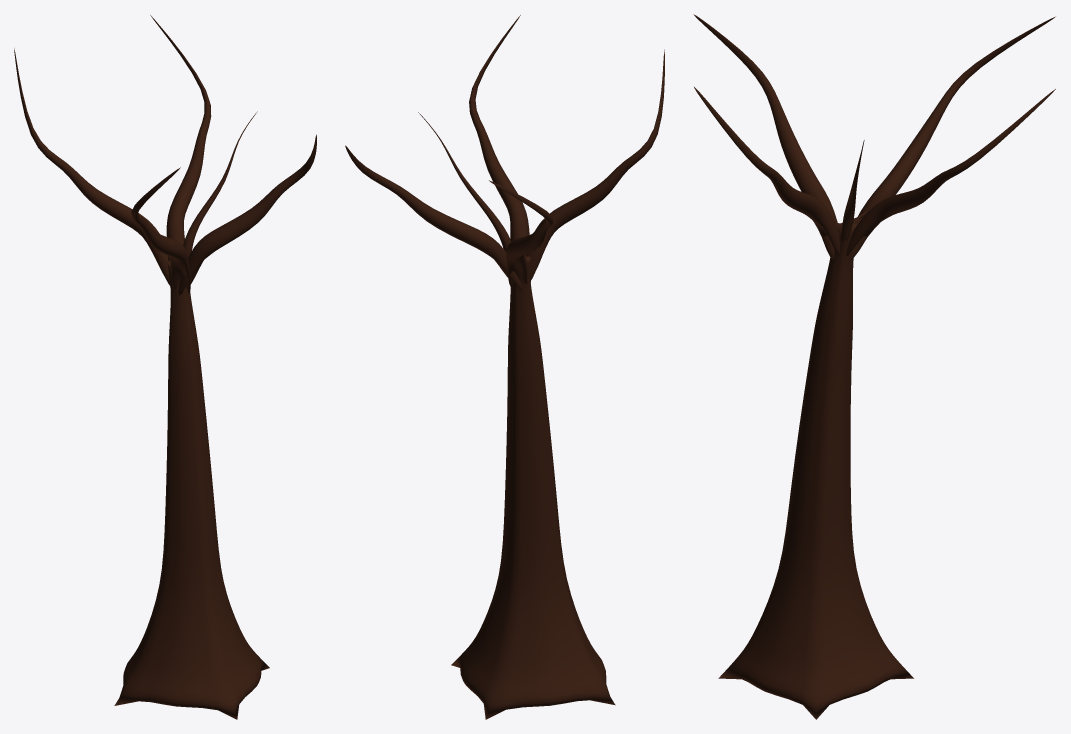
File: nakedtree.fbx
The picture shows the model from 3 angles, left to right: view 1: azimuth 30°, elevation 25°; view 2: azimuth 150°, elevation 25°; view 3: azimuth 270°, elevation 25°; orthographic projection. The views are drawn at different scales.
Visible parts, largest first — view 1: Cylinder; view 2: Cylinder; view 3: Cylinder.
Boxes of the visible parts, bbox=[...] form: Cylinder: bbox=[14, 15, 316, 719]; Cylinder: bbox=[345, 15, 664, 719]; Cylinder: bbox=[693, 14, 1055, 719].
Size of the model in its own units: 224 by 708 by 371.
